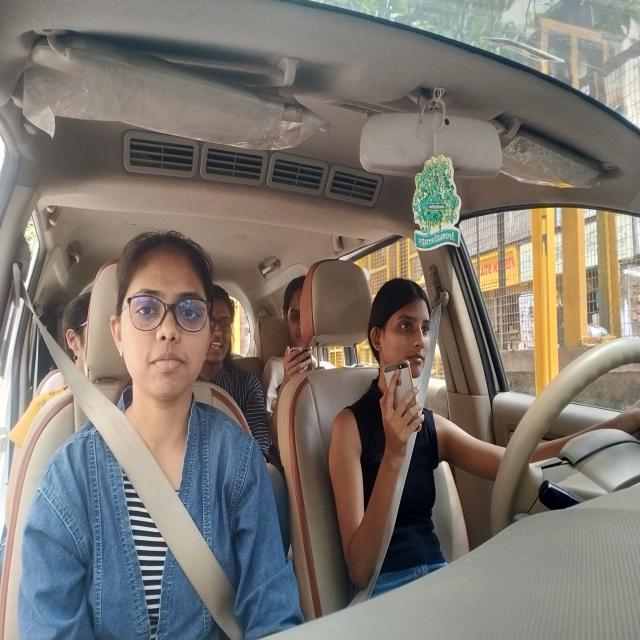mobile: (377, 360, 422, 432)
person: (110, 225, 213, 402), (370, 279, 433, 380), (205, 283, 236, 368), (57, 292, 91, 362), (281, 272, 310, 352)
